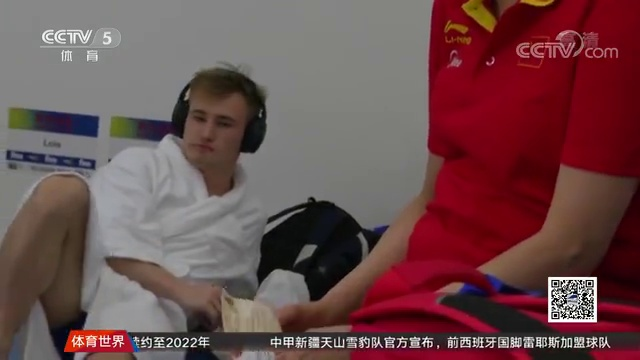face: (182, 80, 246, 166)
